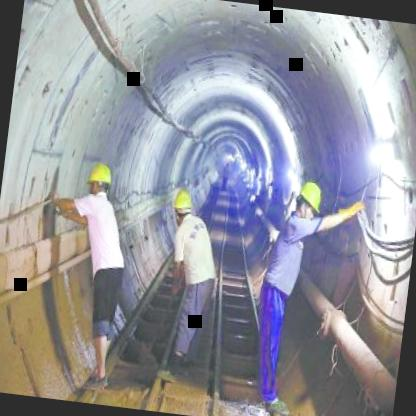helmet: (293, 178, 323, 226), (85, 156, 114, 198), (168, 186, 194, 228)
